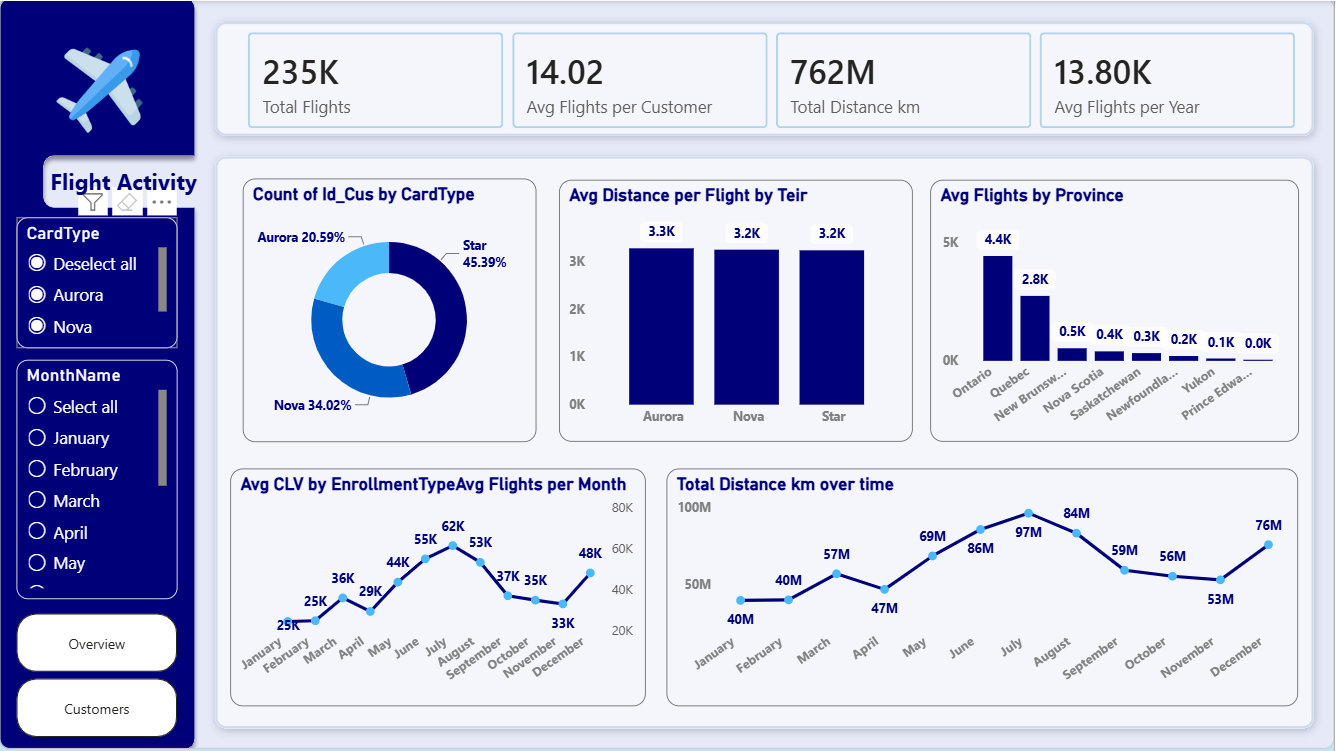

What the dashboard file says about the page in this screenshot:
{"tool":"powerbi","page":{"name":"Flight Activity","canvas":[1280,720],"ordinal":1},"visuals":[{"type":"cardVisual","fields":{"Data":["Mesures.Total Flights","Mesures.Avg Flights per Customer","Mesures.Total Distance km","Mesures.Avg Flights per Year"]},"box":[222.2,13,1038.8,127],"z":0},{"type":"lineChart","title":"Avg CLV by EnrollmentTypeAvg Flights per Month","fields":{"Category":["Dim_Date.MonthName"],"Y2":["Mesures.Avg Flights per Month"]},"box":[222.2,448.7,398.2,228],"z":1000},{"type":"lineChart","title":"Total Distance km over time","fields":{"Y":["Mesures.Total Distance km"],"Category":["Dim_Date.MonthName"]},"box":[640.6,448.7,606,228],"z":2000},{"type":"lineStackedColumnComboChart","title":"Avg Flights by Province","fields":{"Y":["Mesures.Avg Flights per Year"],"Category":["Dim_Geography.Province"]},"box":[893.1,171.7,353.5,251],"z":3000},{"type":"lineStackedColumnComboChart","title":"Avg Distance per Flight by Teir","fields":{"Y":["Mesures.Avg Distance per Flight km"],"Category":["Dim_LoyaltyCard.CardType"]},"box":[536.7,171.7,339,251],"z":4000},{"type":"donutChart","title":"Count of Id_Cus by CardType","fields":{"Category":["Dim_LoyaltyCard.CardType"],"Y":["Mesures.Total Flights"]},"box":[233.7,170.2,281.3,252.5],"z":5000},{"type":"pageNavigator","box":[17.3,587.2,154.4,119.7],"z":6000},{"type":"listSlicer","fields":{"Values":["Dim_LoyaltyCard.CardType"]},"box":[17.3,207.8,154.4,125.5],"z":7000},{"type":"listSlicer","fields":{"Values":["Dim_Date.MonthName"]},"box":[17.3,343.4,154.4,229.4],"z":8000},{"type":"image","box":[36.1,44.7,121.2,82.2],"z":9000},{"type":"textbox","box":[44.7,152.9,177.5,66.4],"z":10000}]}

Visuals, with their boxes in screenshot pixels (x1, y1, x2, y2), scaled from the page's 1280x720 canvas onto the 1336x751 screenshot:
cardVisual - Mesures.Total Flights x Mesures.Avg Flights per Customer: <region>232, 14, 1316, 146</region>
"Avg CLV by EnrollmentTypeAvg Flights per Month" lineChart: <region>232, 468, 648, 706</region>
"Total Distance km over time" lineChart: <region>669, 468, 1301, 706</region>
"Avg Flights by Province" lineStackedColumnComboChart: <region>932, 179, 1301, 441</region>
"Avg Distance per Flight by Teir" lineStackedColumnComboChart: <region>560, 179, 914, 441</region>
"Count of Id_Cus by CardType" donutChart: <region>244, 178, 538, 441</region>
pageNavigator: <region>18, 612, 179, 737</region>
listSlicer - Dim_LoyaltyCard.CardType: <region>18, 217, 179, 348</region>
listSlicer - Dim_Date.MonthName: <region>18, 358, 179, 597</region>
image: <region>38, 47, 164, 132</region>
textbox: <region>47, 159, 232, 229</region>
